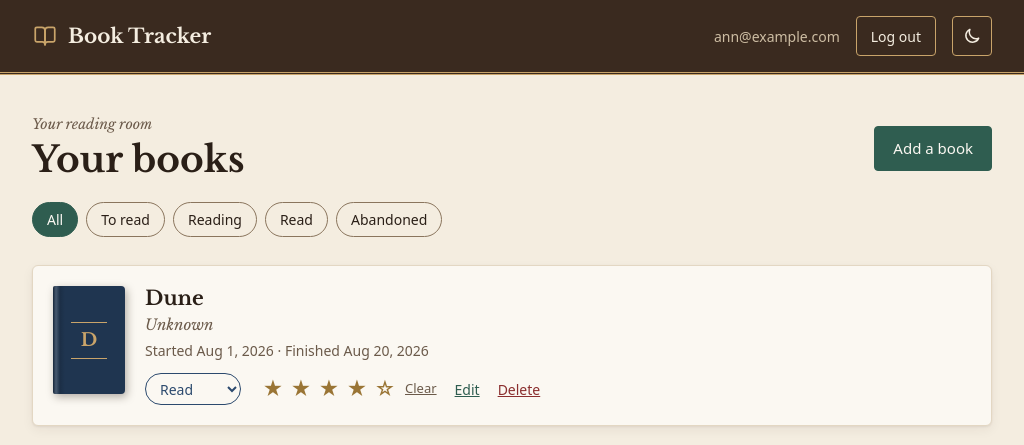
it: rating › sets and clears the rating
This screenshot has width=1024, height=445.
Click the button named "Rate 2 out of 5": (301, 389) [287,373,315,405]
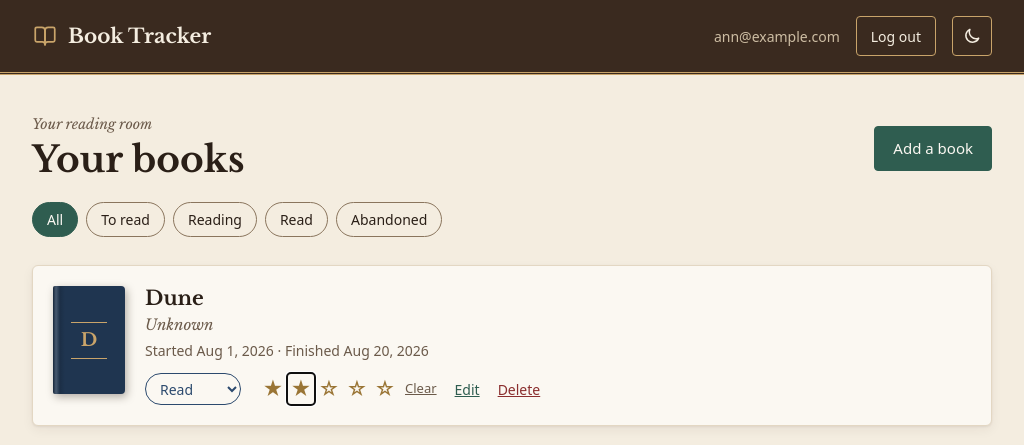
Click the button "Clear": (421, 389) [405,379,437,399]
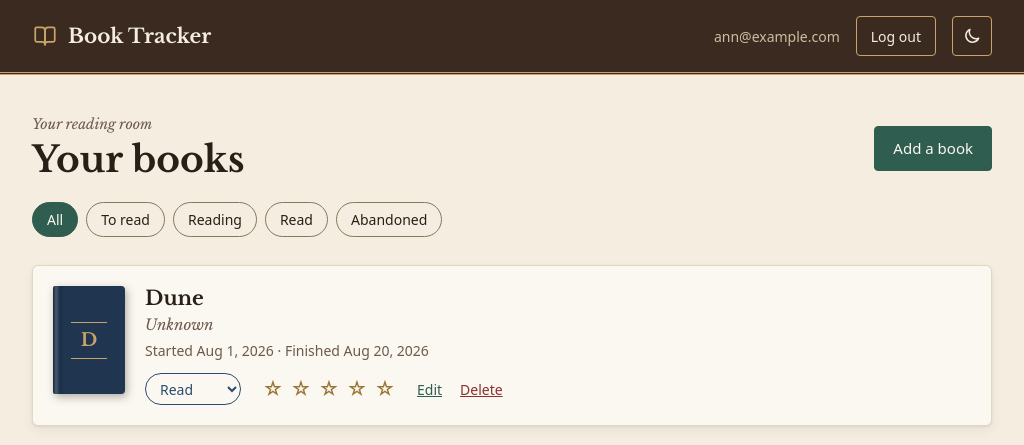
expect the button "Clear" is gone: met
